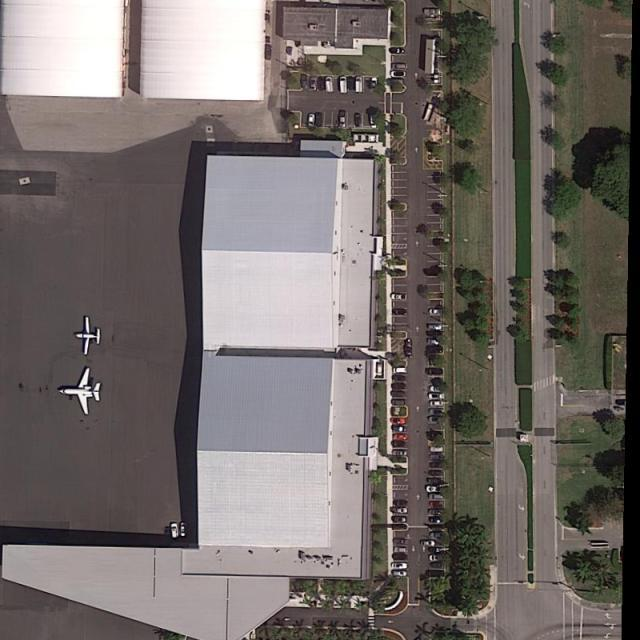vehicle: (339, 75, 349, 94), (426, 366, 443, 377), (405, 338, 414, 357), (169, 523, 180, 538), (426, 570, 446, 578), (339, 110, 347, 130), (427, 431, 443, 441), (392, 424, 408, 433), (301, 74, 310, 90), (429, 409, 445, 418), (429, 531, 446, 539), (393, 499, 410, 507), (326, 76, 334, 93), (392, 62, 409, 70), (389, 46, 406, 54), (392, 432, 407, 441), (317, 76, 326, 91), (391, 69, 406, 78), (430, 501, 445, 510), (430, 554, 446, 562), (391, 398, 407, 406), (391, 417, 407, 425), (393, 538, 409, 546), (391, 570, 407, 578), (426, 486, 442, 494), (427, 477, 443, 485), (426, 346, 442, 354), (392, 308, 408, 316), (391, 294, 407, 302), (391, 507, 409, 514), (356, 76, 363, 94), (315, 113, 324, 127), (430, 385, 444, 394), (392, 516, 407, 524), (394, 546, 409, 554), (348, 77, 356, 92), (429, 462, 444, 470), (429, 440, 444, 448), (354, 114, 362, 129), (427, 323, 442, 331), (392, 366, 407, 374), (391, 449, 408, 456), (392, 554, 409, 561), (392, 562, 409, 569), (180, 522, 187, 538), (392, 382, 406, 390), (392, 390, 406, 398), (310, 77, 318, 91), (307, 113, 315, 127), (430, 446, 444, 454), (429, 401, 445, 408), (370, 114, 378, 128), (392, 374, 406, 382), (430, 308, 443, 316), (392, 440, 406, 447), (428, 517, 442, 524), (429, 494, 443, 501), (429, 470, 443, 477), (426, 339, 440, 346), (422, 540, 435, 547), (371, 77, 378, 90), (430, 454, 443, 461), (429, 417, 442, 424), (393, 524, 408, 530), (430, 562, 444, 568), (429, 394, 443, 400), (429, 509, 442, 515)
